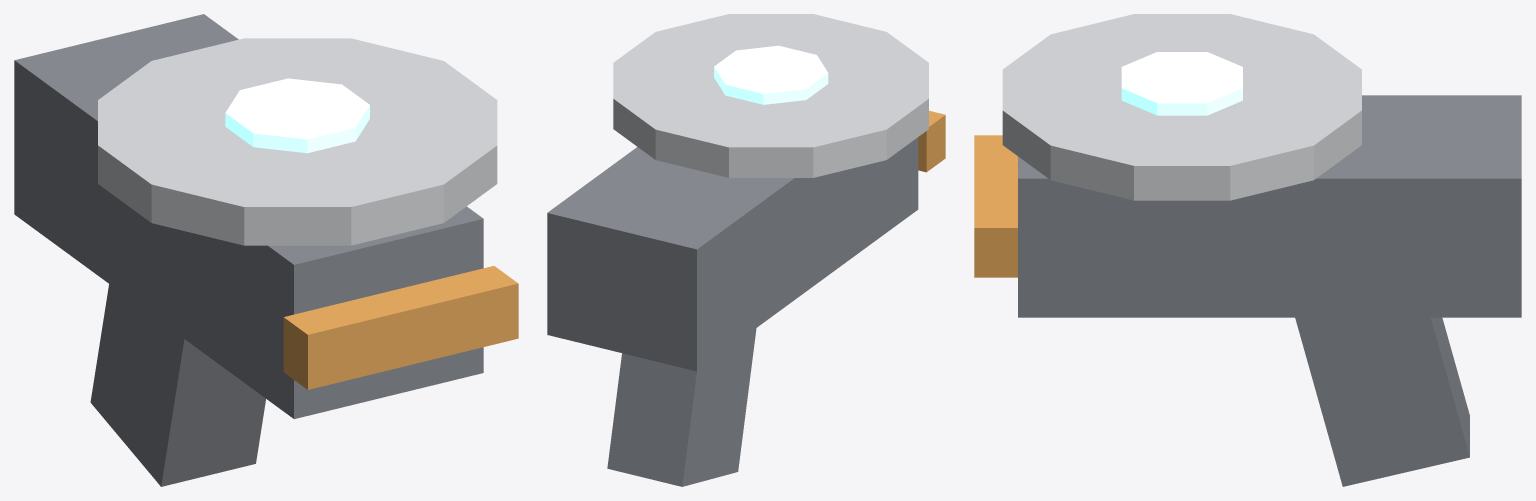
Rendered from ripper.glb.
3 views of the same model, side by side, from view 1: azimuth 30°, elevation 25°; view 2: azimuth 150°, elevation 25°; view 3: azimuth 270°, elevation 25° (orthographic). The views are drawn at different scales.
Visible parts, largest first — view 1: gun; view 2: gun; view 3: gun.
Boxes of the visible parts, left/top/right/bottom form: gun: left=14, top=14, right=518, bottom=486; gun: left=547, top=14, right=945, bottom=486; gun: left=974, top=14, right=1521, bottom=486.
Bounding box in the file's own units: 0.3284 × 0.3917 × 0.5.
